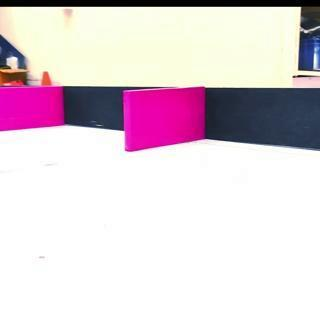xparking: (126, 90, 204, 150), (1, 86, 66, 129)
